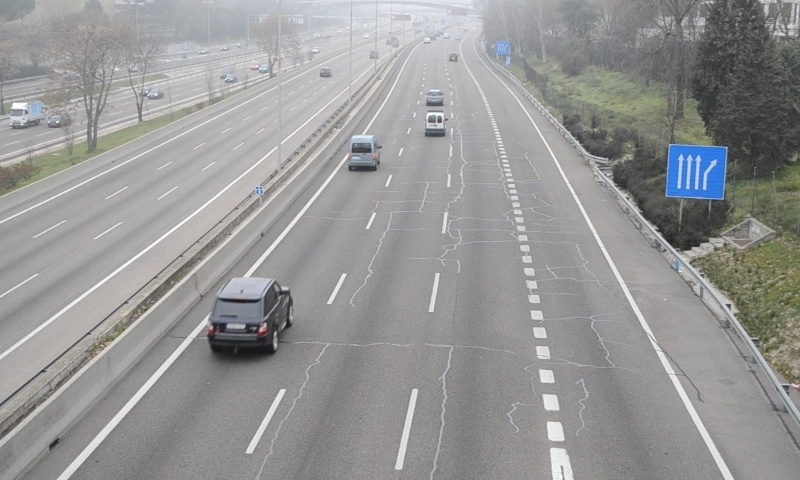car: (206, 278, 293, 347), (424, 88, 444, 106)
van: (348, 134, 378, 167), (424, 110, 446, 136)
